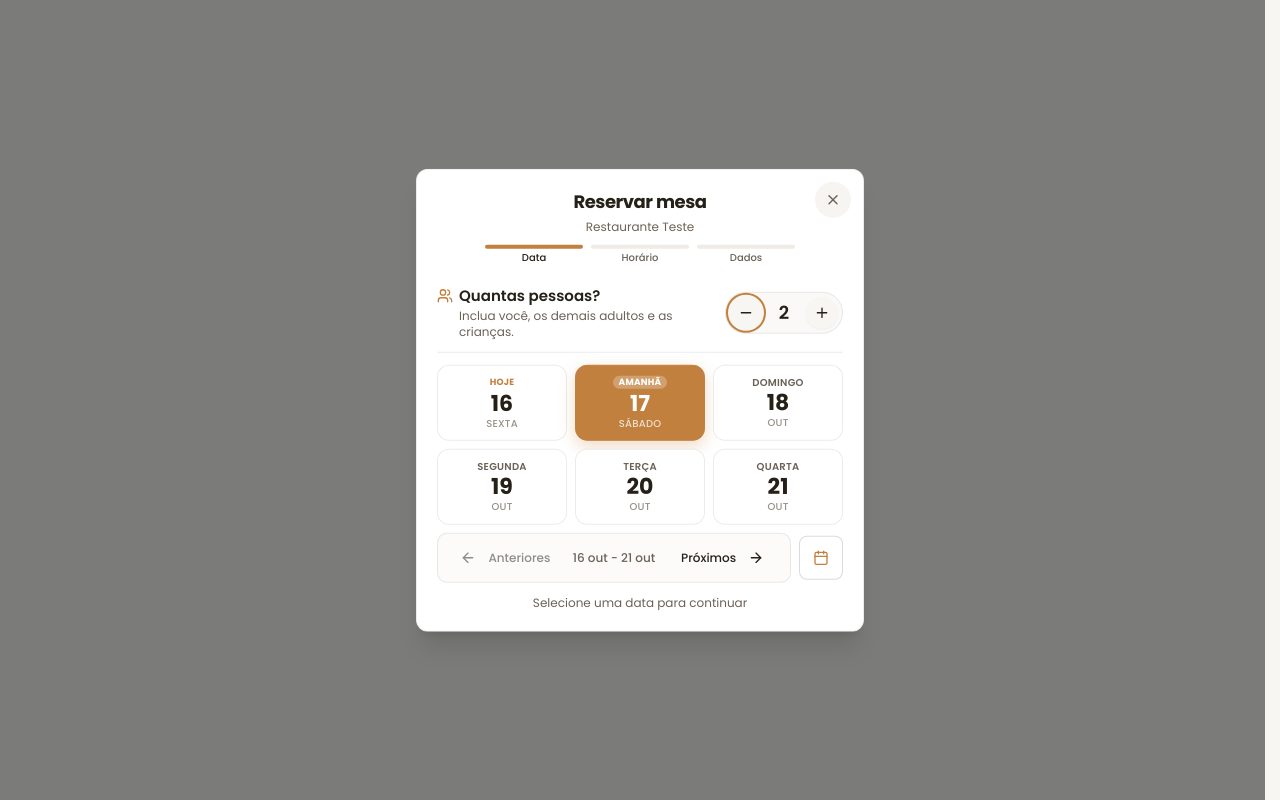
it: ReservationModal › permite alterar pessoas nos horarios e confirma a nova quantidade antes de continuar
Step 1. Click the button "Amanhã 17 sábado" → coordinates (640, 402), box [575, 364, 705, 440]
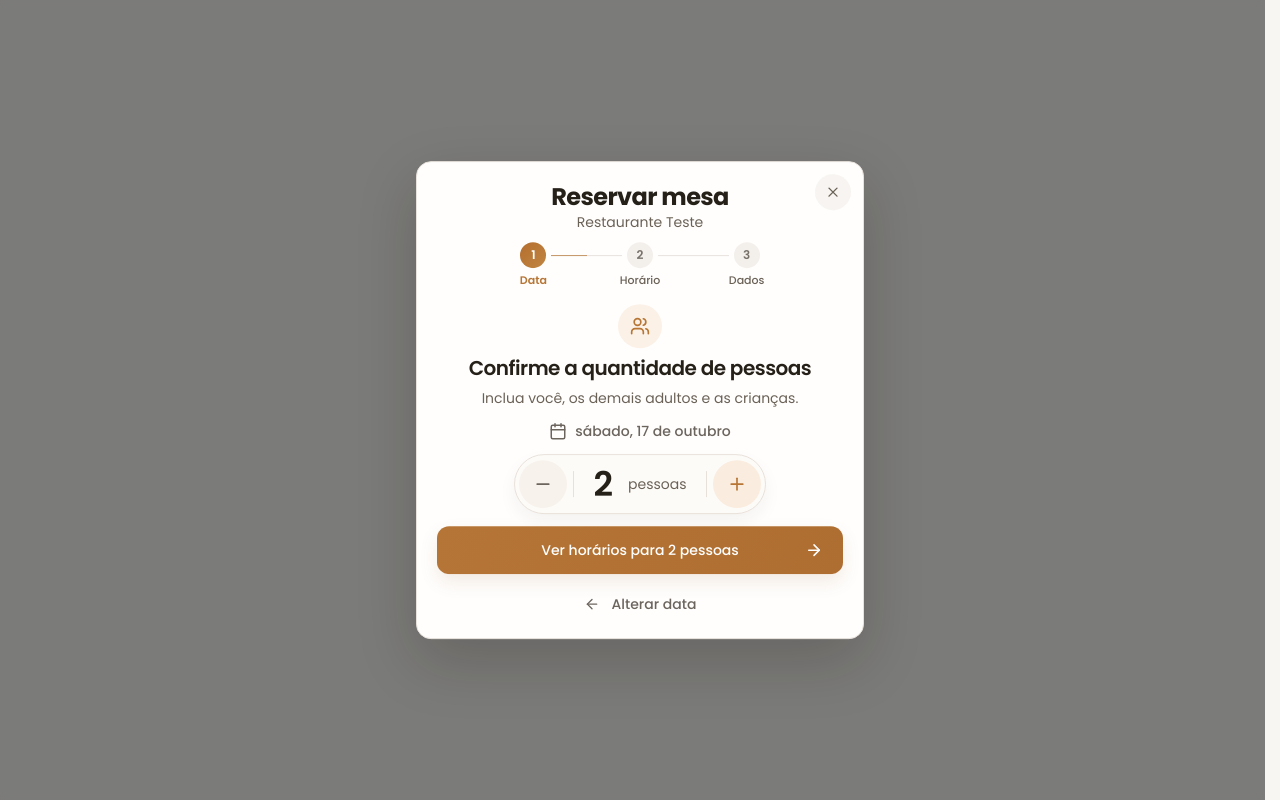
Step 2. Click the button "Ver horários para 2 pessoas" → coordinates (640, 550), box [437, 526, 843, 574]
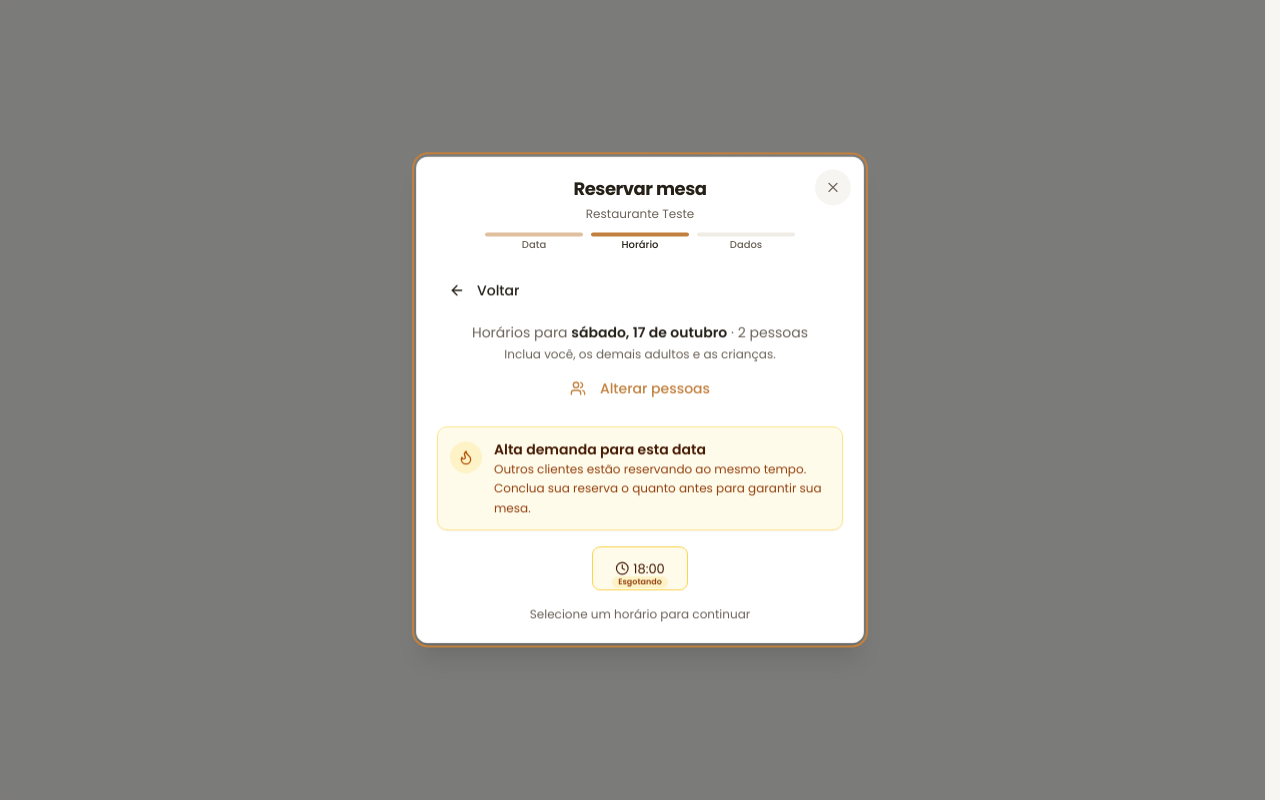
Now the button "18:00 Esgotando" is shown, box [592, 547, 688, 591]
Step 3. Click the button "Alterar pessoas" → coordinates (640, 388), box [558, 366, 722, 410]
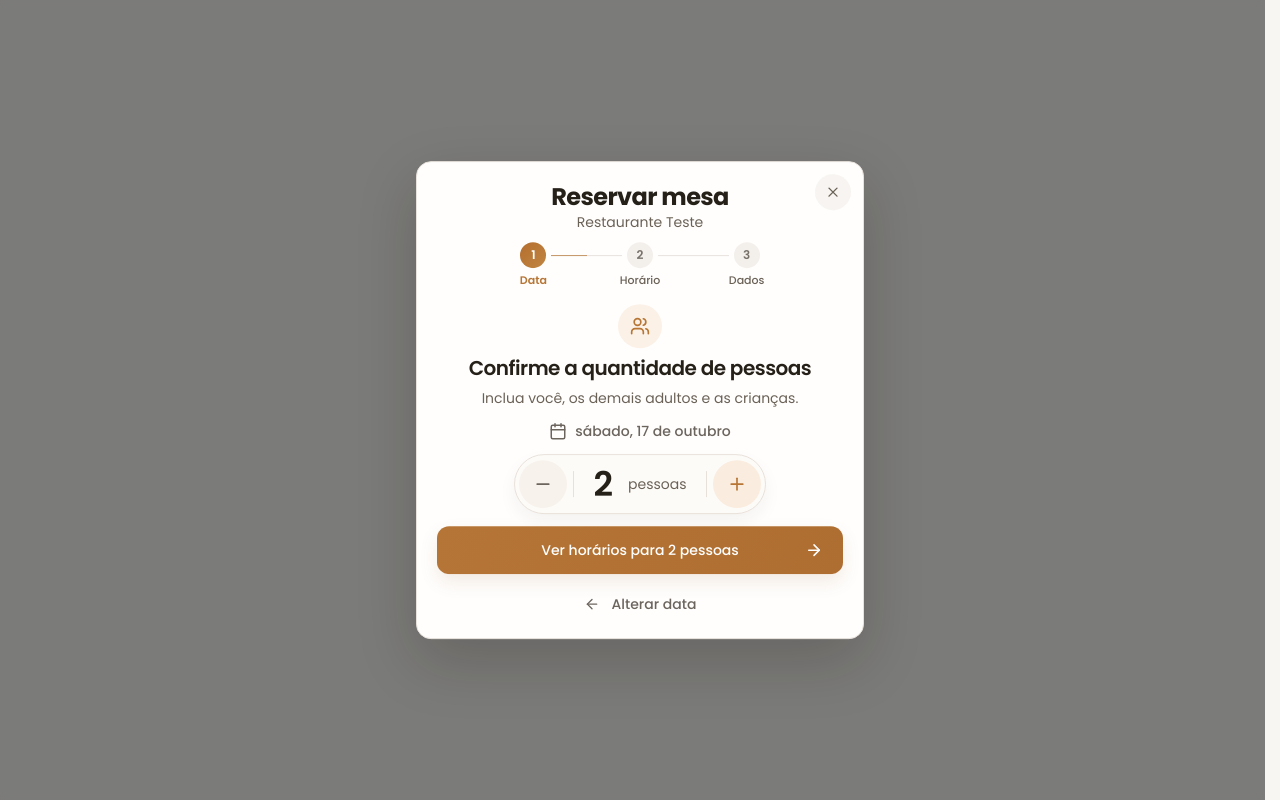
Step 4. Click the button named "Aumentar número de pessoas" → coordinates (737, 484), box [713, 460, 761, 508]
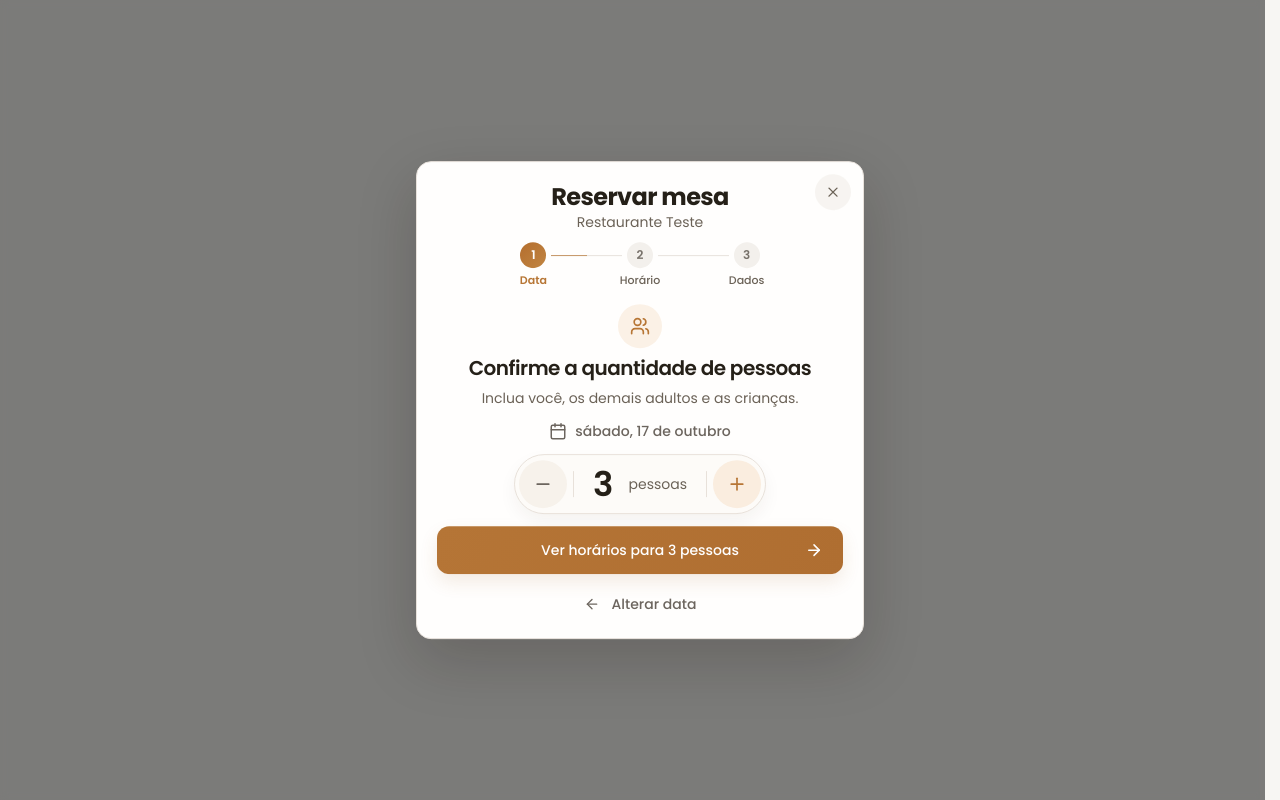
Expected: the button "18:00" is not shown
Step 5. Click the button "Ver horários para 3 pessoas" → coordinates (640, 550), box [437, 526, 843, 574]
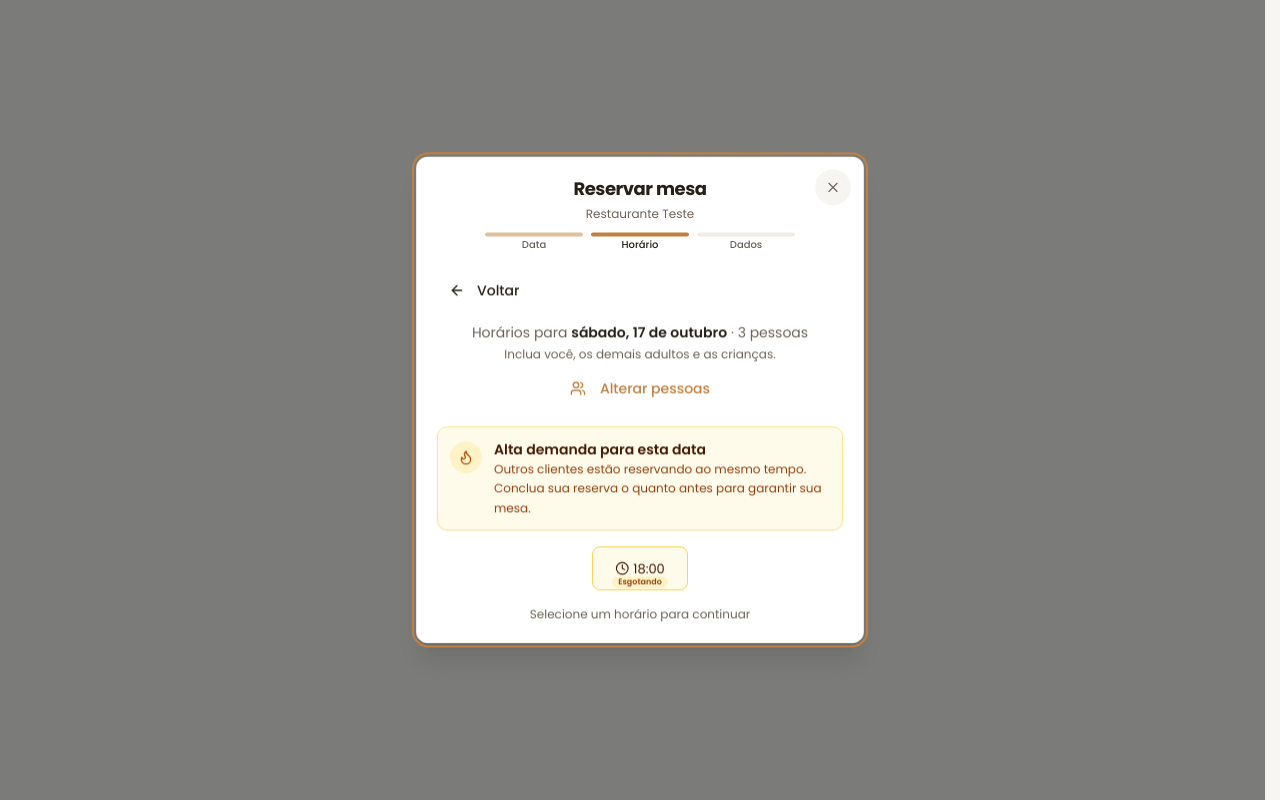
Now the button "18:00 Esgotando" is shown, box [592, 547, 688, 591]
Now the text "· 3 pessoas" is shown, box [472, 322, 808, 342]
